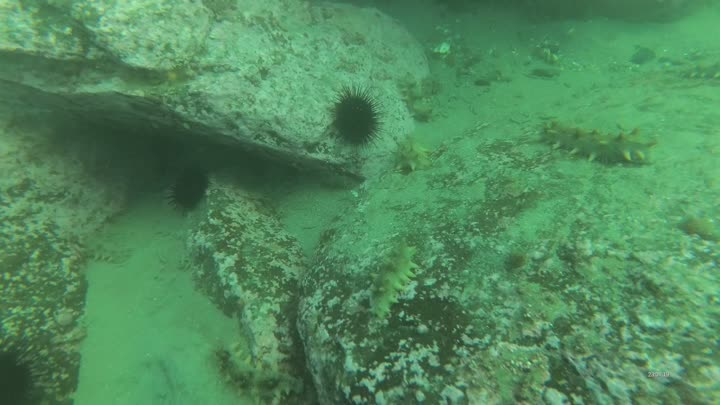echinus: (328, 78, 386, 156), (1, 333, 48, 405), (166, 163, 211, 217)
holothurian: (535, 120, 658, 168), (215, 341, 306, 405), (364, 238, 420, 321), (397, 72, 438, 123), (392, 139, 434, 172), (74, 243, 134, 264), (662, 61, 720, 82)
